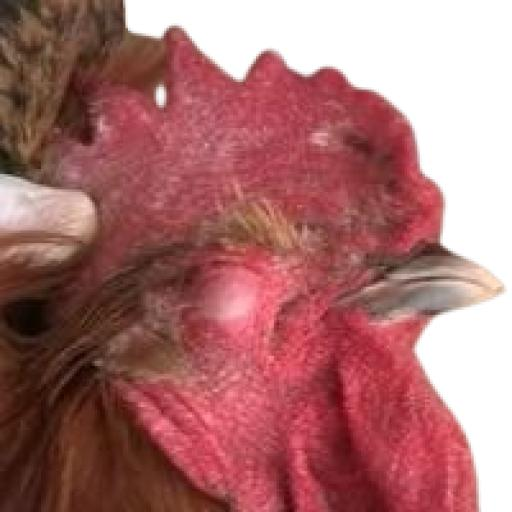disease: (122, 211, 309, 372), (290, 102, 424, 222)
